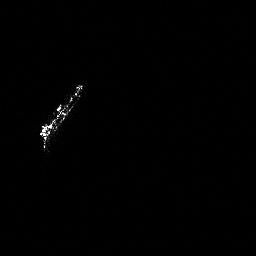ship: (36, 80, 87, 154)
